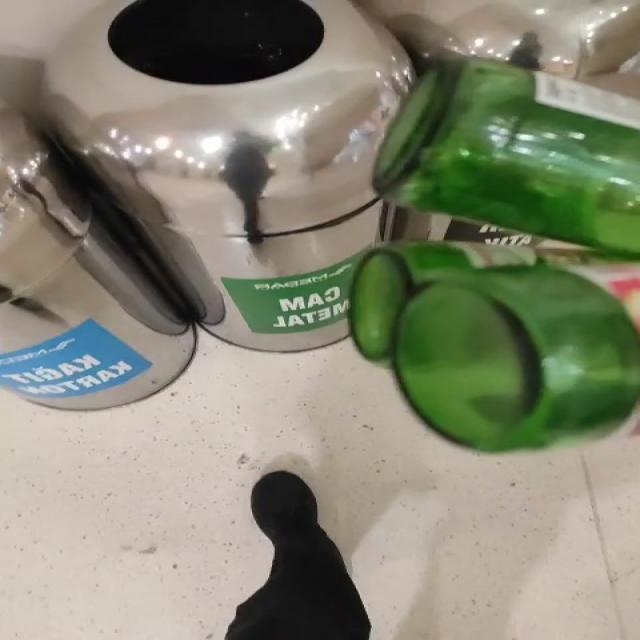bin: (0, 0, 412, 410)
glass: (349, 58, 639, 452)
